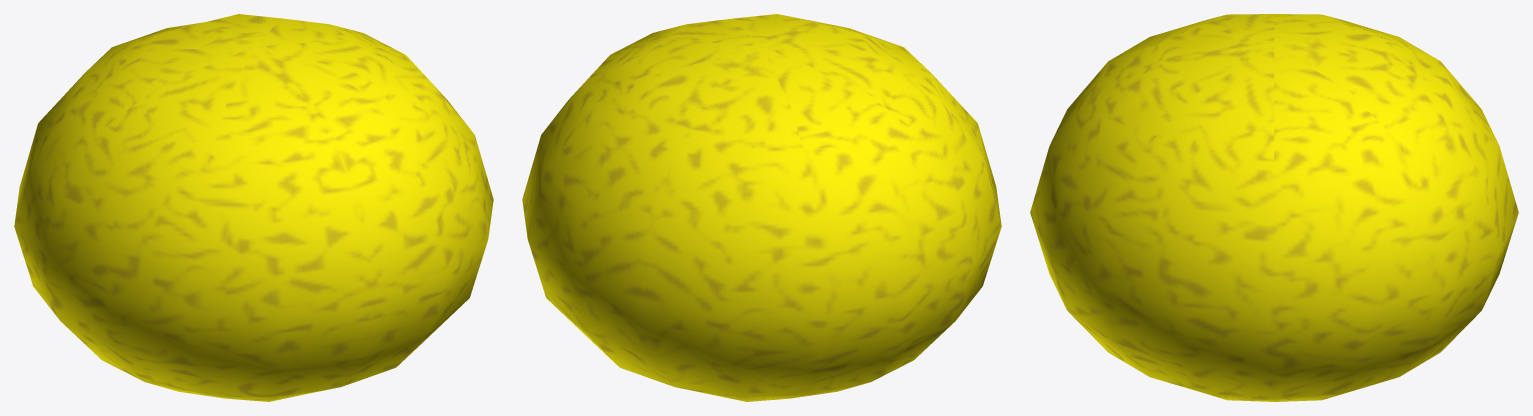
Rendered from melon.FBX.
3 renders of one model, left to right at view 1: azimuth 30°, elevation 25°; view 2: azimuth 150°, elevation 25°; view 3: azimuth 270°, elevation 25°, orthographic.
Parts seen in each view (by area): view 1: Melon001; view 2: Melon001; view 3: Melon001.
Boxes of the visible parts, left/top/right/bottom form: Melon001: left=14, top=14, right=493, bottom=401; Melon001: left=522, top=14, right=1001, bottom=401; Melon001: left=1030, top=14, right=1518, bottom=401.
Bounding box in the file's own units: 16.85 × 12.6 × 16.78.
